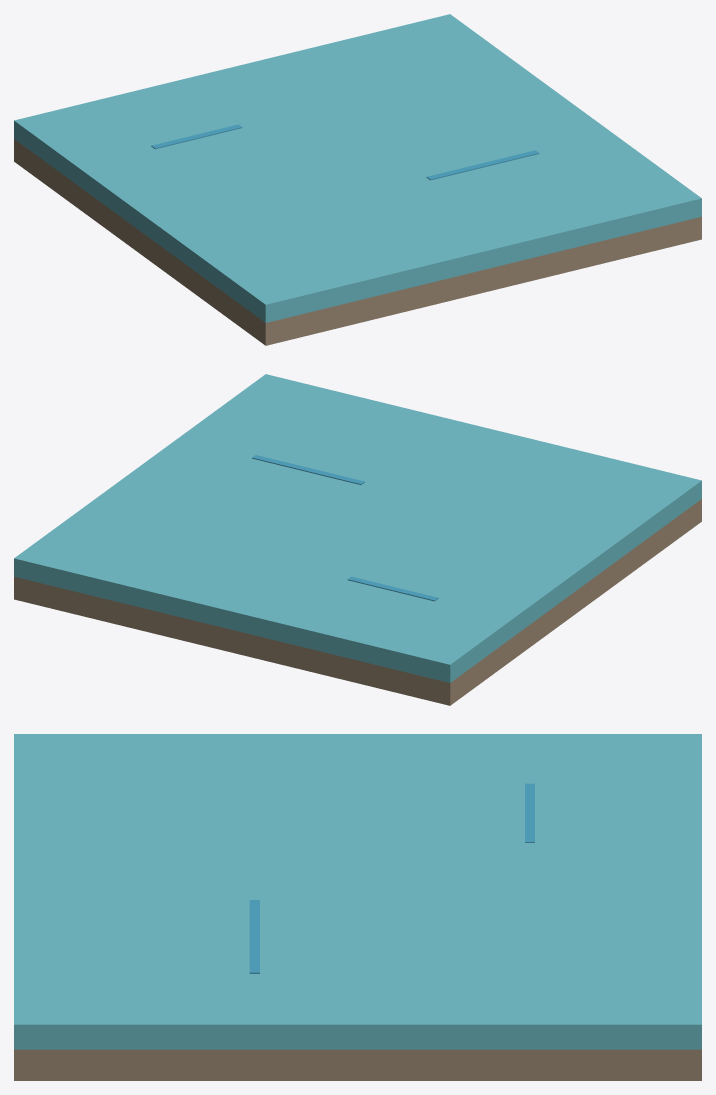
Rendered from terreno__agua.glb.
3 renders of one model, top to bottom at view 1: azimuth 30°, elevation 25°; view 2: azimuth 150°, elevation 25°; view 3: azimuth 270°, elevation 25°, orthographic. The views are drawn at different scales.
Visible parts, largest first — view 1: terreno__agua; view 2: terreno__agua; view 3: terreno__agua.
Part boxes in pixels (left/top/right/bottom): terreno__agua: left=14, top=14, right=701, bottom=345; terreno__agua: left=14, top=374, right=701, bottom=705; terreno__agua: left=14, top=734, right=701, bottom=1080.
Bounding box in the file's own units: 2 × 0.184 × 2.
